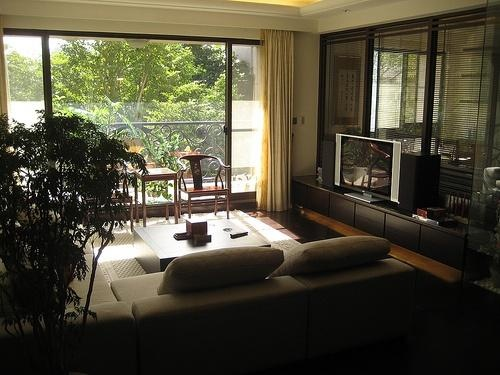chair: (176, 154, 233, 221)
sofa: (5, 235, 427, 366)
tvmonitor: (337, 135, 404, 206)
